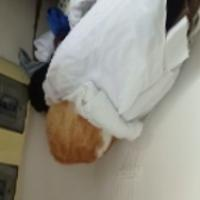asleep: (43, 98, 120, 163)
